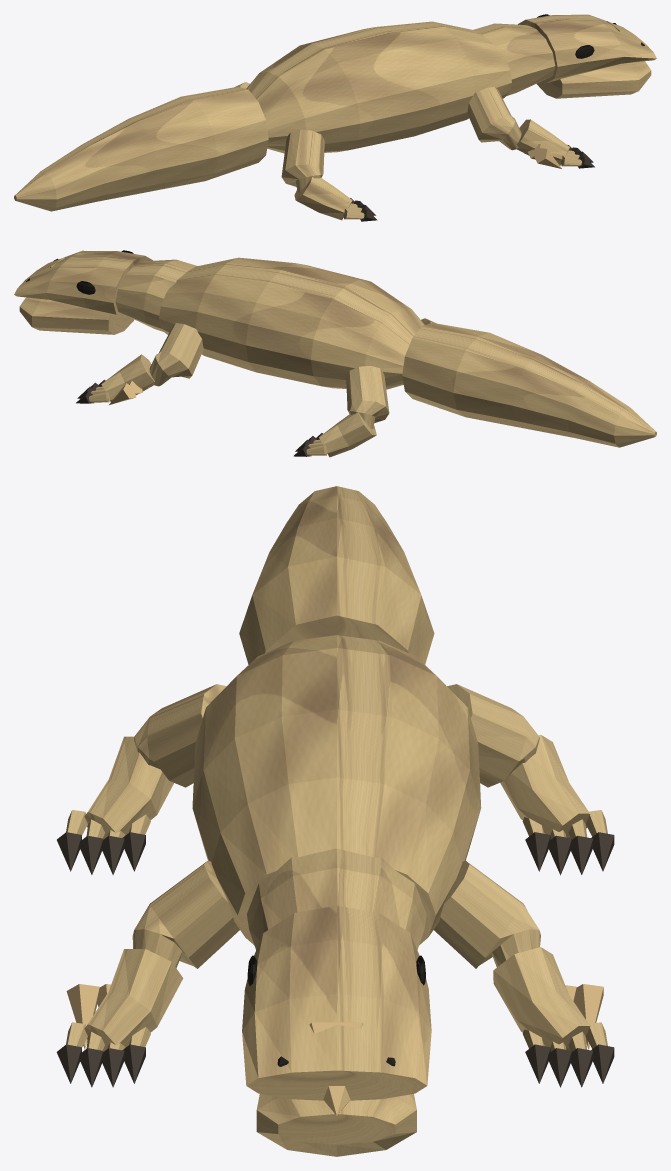
File: fossario-v01-textured-blockout.glb
3 views of the same model, one above another, from view 1: azimuth 30°, elevation 25°; view 2: azimuth 150°, elevation 25°; view 3: azimuth 270°, elevation 25° (orthographic). The views are drawn at different scales.
Visible parts, largest first — view 1: fossario_root; view 2: fossario_root; view 3: fossario_root.
Part boxes in pixels (<box>): fossario_root: <box>14,14,656,221</box>; fossario_root: <box>14,250,656,457</box>; fossario_root: <box>56,486,614,1156</box>.
Bounding box in the file's own units: 1.03 × 0.1864 × 0.3942.
1 material, 1 textured.
